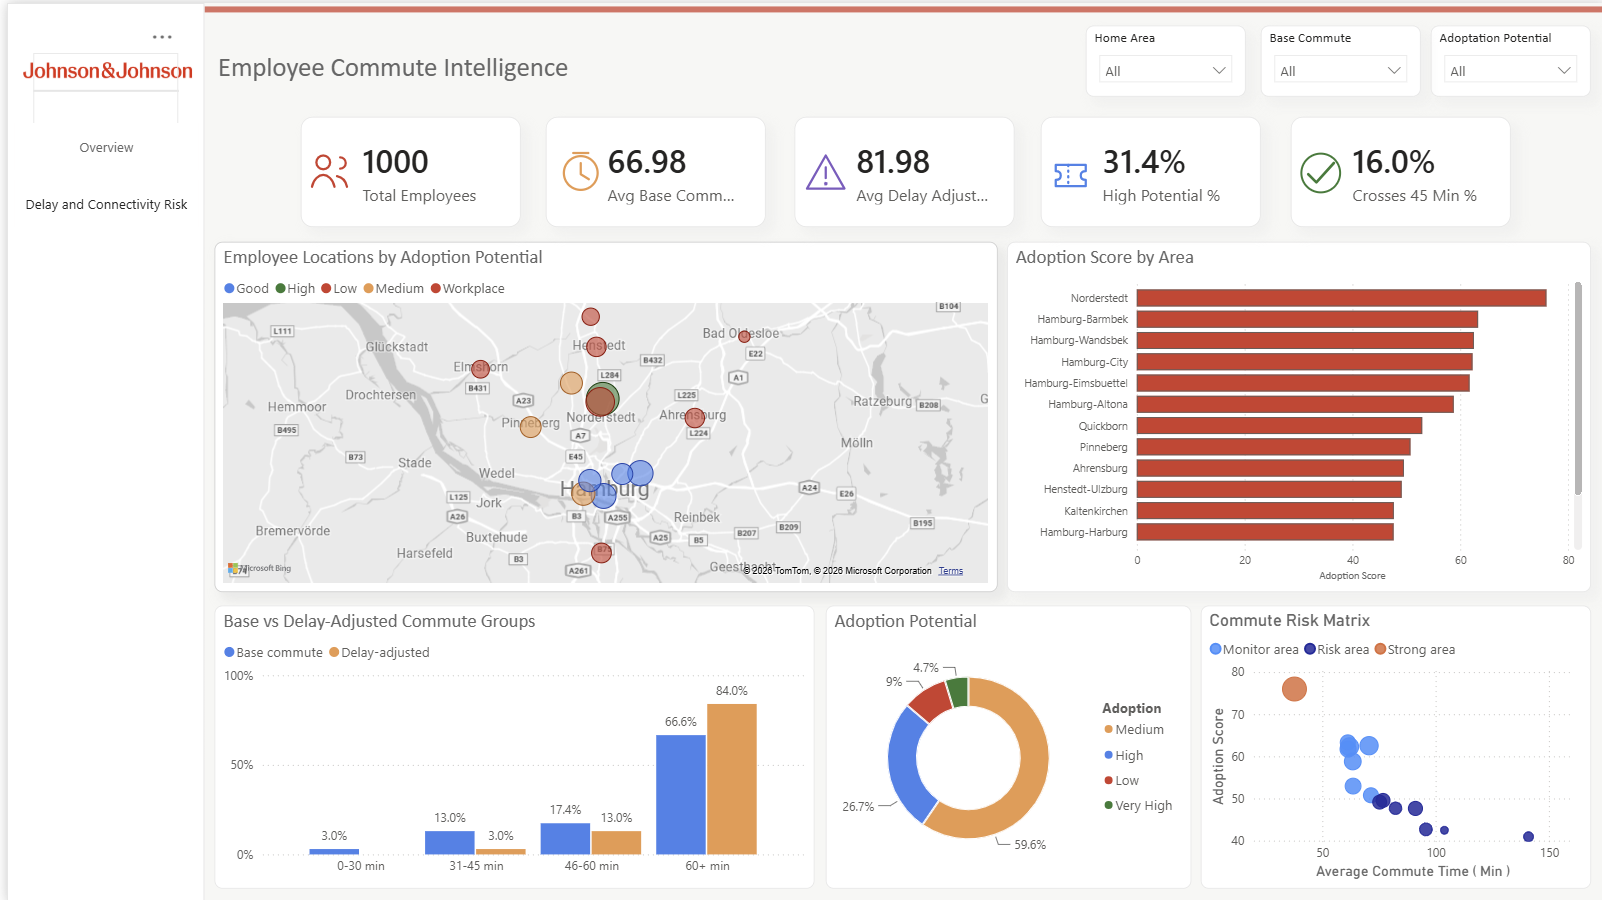

The page's visual inventory and layout, read from the dashboard file:
{"tool":"powerbi","page":{"name":"Overview","canvas":[1600,900],"ordinal":0},"visuals":[{"type":"shape","box":[194.3,0,1405.7,12.9],"z":0},{"type":"shape","box":[0,0,197.5,900],"z":1000},{"type":"image","box":[15.7,40,168.6,54.3],"z":2000},{"type":"slicer","title":"Adoptation Potential","fields":{"Values":["CommuteData.adoption_potential"]},"box":[1424.3,22.9,160,71.4],"z":3000},{"type":"slicer","title":"Home Area","fields":{"Values":["CommuteData.home_area"]},"box":[1078.6,22.9,160,71.4],"z":4000},{"type":"slicer","title":"Base Commute","fields":{"Values":["CommuteData.base_commute_group"]},"box":[1254.3,22.9,160,71.4],"z":5000},{"type":"map","title":"Employee Locations by Adoption Potential","fields":{"Y":["MapPoints.Latitude"],"X":["MapPoints.Longitude"],"Size":["Sum(MapPoints.Bubble Size)"],"Series":["MapPoints.Map Category"]},"box":[207.1,238.6,782.9,350],"z":6000},{"type":"clusteredBarChart","title":"Adoption Score by Area","fields":{"Category":["CommuteData.home_area"],"Y":["Avg(CommuteData.adoption_score)"]},"box":[1000,238.6,584.3,350],"z":7000},{"type":"clusteredColumnChart","title":"Base vs Delay-Adjusted Commute Groups","fields":{"Category":["CommuteScenario.Commute Group"],"Y":["CommuteScenario.Scenario Employees %"],"Series":["CommuteScenario.Scenario"]},"box":[207.1,602.9,600,282.9],"z":8000},{"type":"donutChart","title":"Adoption Potential","fields":{"Category":["CommuteData.adoption_potential"],"Y":["Count(CommuteData.employee_id)"]},"box":[818.6,602.9,365.7,282.9],"z":9000},{"type":"shape","box":[25.7,50,145.7,75.7],"z":10000},{"type":"cardVisual","fields":{"Data":["CommuteData.Avg Base Commute"]},"box":[538.6,114.3,220,110],"z":11000},{"type":"cardVisual","fields":{"Data":["CommuteData.Avg Delay Adjusted"]},"box":[787.1,114.3,220,110],"z":12000},{"type":"cardVisual","fields":{"Data":["CommuteData.High Potential %"]},"box":[1034.3,114.3,220,110],"z":13000},{"type":"cardVisual","fields":{"Data":["CommuteData.Within 45 Min %"]},"box":[1284.3,114.3,220,110],"z":14000},{"type":"cardVisual","fields":{"Data":["CommuteData.Total Employees"]},"box":[294.3,114.3,220,110],"z":15000},{"type":"textbox","box":[197.1,42.9,377.1,54.3],"z":16000},{"type":"scatterChart","title":"Commute Risk Matrix","fields":{"X":["CommuteData.Avg Base Commute"],"Y":["CommuteData.Avg Adoption Score"],"Size":["CommuteData.Area Employees"],"Category":["CommuteData.home_area"],"Series":["CommuteData.Area Risk Category"]},"box":[1194.3,602.9,390,282.9],"z":17000},{"type":"image","box":[294.3,138.6,60,60],"z":18000},{"type":"image","box":[544.3,138.6,60,60],"z":19000},{"type":"image","box":[788.6,140,60,60],"z":20000},{"type":"image","box":[1034.3,140,60,60],"z":21000},{"type":"image","box":[1284.3,140,60,60],"z":22000},{"type":"pageNavigator","box":[7.1,120,184.3,104.3],"z":23000}]}

Visuals, with their boxes on the page's 1600x900 design canvas (x1, y1, x2, y2). These are canvas units, not pixel positions in the 1602x900 screenshot, which may show the page scaled, cropped or inside an application window:
shape: x1=194, y1=0, x2=1600, y2=13
shape: x1=0, y1=0, x2=198, y2=900
image: x1=16, y1=40, x2=184, y2=94
"Adoptation Potential" slicer: x1=1424, y1=23, x2=1584, y2=94
"Home Area" slicer: x1=1079, y1=23, x2=1239, y2=94
"Base Commute" slicer: x1=1254, y1=23, x2=1414, y2=94
"Employee Locations by Adoption Potential" map: x1=207, y1=239, x2=990, y2=589
"Adoption Score by Area" clusteredBarChart: x1=1000, y1=239, x2=1584, y2=589
"Base vs Delay-Adjusted Commute Groups" clusteredColumnChart: x1=207, y1=603, x2=807, y2=886
"Adoption Potential" donutChart: x1=819, y1=603, x2=1184, y2=886
shape: x1=26, y1=50, x2=171, y2=126
cardVisual - CommuteData.Avg Base Commute: x1=539, y1=114, x2=759, y2=224
cardVisual - CommuteData.Avg Delay Adjusted: x1=787, y1=114, x2=1007, y2=224
cardVisual - CommuteData.High Potential %: x1=1034, y1=114, x2=1254, y2=224
cardVisual - CommuteData.Within 45 Min %: x1=1284, y1=114, x2=1504, y2=224
cardVisual - CommuteData.Total Employees: x1=294, y1=114, x2=514, y2=224
textbox: x1=197, y1=43, x2=574, y2=97
"Commute Risk Matrix" scatterChart: x1=1194, y1=603, x2=1584, y2=886
image: x1=294, y1=139, x2=354, y2=199
image: x1=544, y1=139, x2=604, y2=199
image: x1=789, y1=140, x2=849, y2=200
image: x1=1034, y1=140, x2=1094, y2=200
image: x1=1284, y1=140, x2=1344, y2=200
pageNavigator: x1=7, y1=120, x2=191, y2=224
